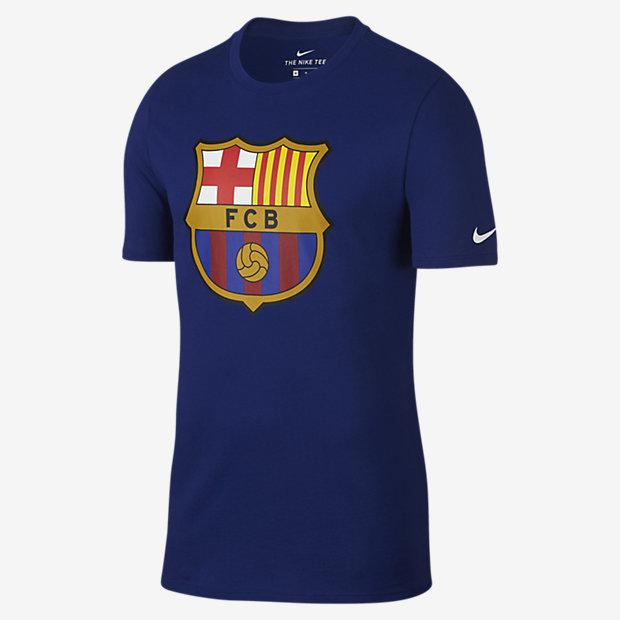teeshirt: (85, 11, 542, 620)
